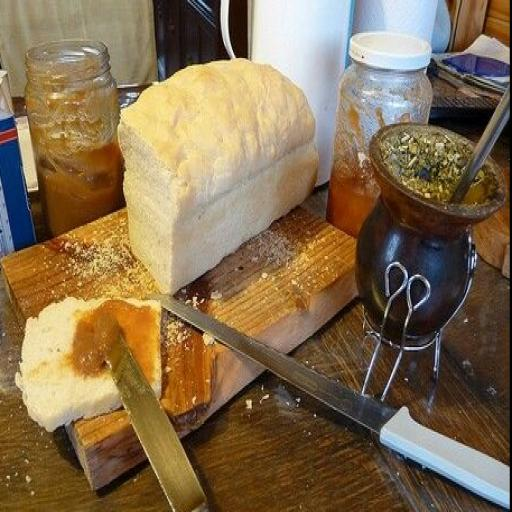bolleria: (118, 60, 318, 292), (16, 297, 161, 431)
mate: (357, 125, 506, 400)
